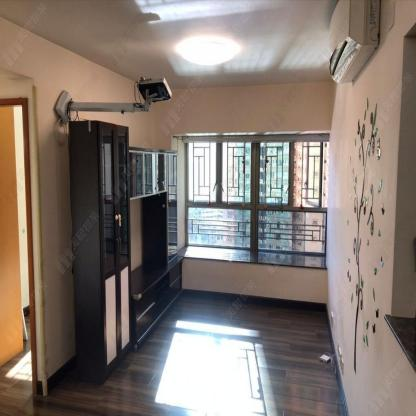AC: (327, 0, 381, 84)
Cupboard: (68, 120, 132, 384)
Windowsill: (171, 131, 330, 270)
